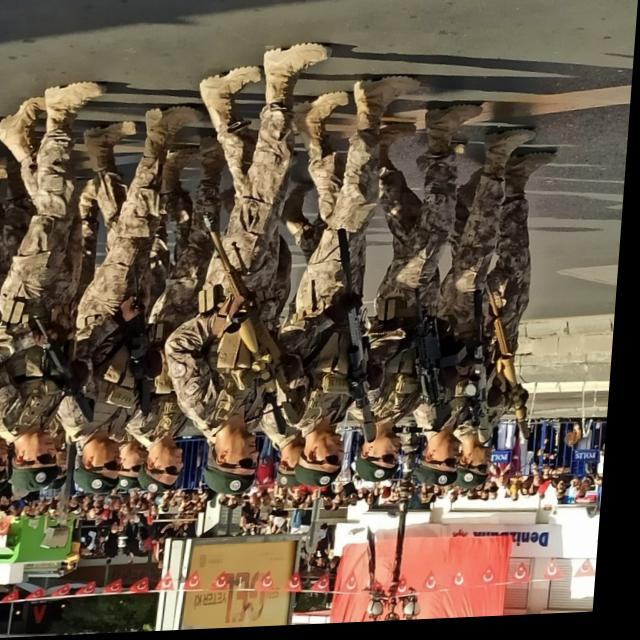poh_personel: (162, 48, 330, 501), (272, 79, 422, 493), (63, 111, 203, 496), (345, 109, 486, 487), (0, 83, 111, 494), (460, 155, 560, 493)
